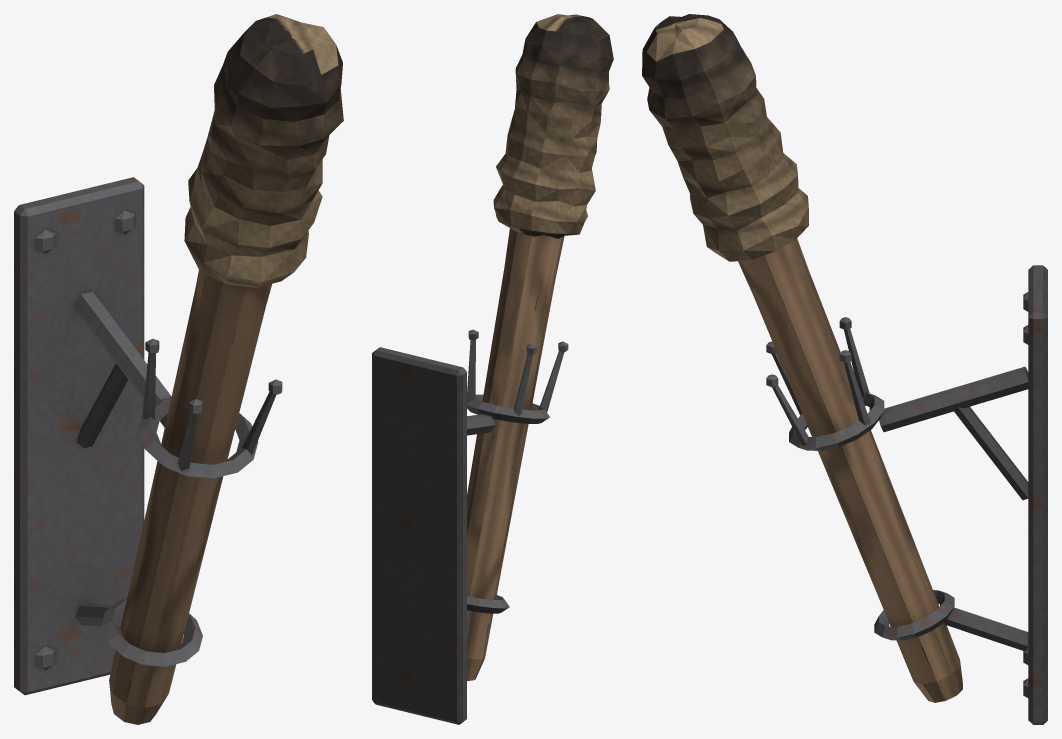
File: torch_tex.glb
The picture shows the model from 3 angles, left to right: view 1: azimuth 30°, elevation 25°; view 2: azimuth 150°, elevation 25°; view 3: azimuth 270°, elevation 25°; orthographic projection. The views are drawn at different scales.
Visible parts, largest first — view 1: torch; view 2: torch; view 3: torch.
Part boxes in pixels (bbox=[...]): torch: bbox=[14, 14, 343, 724]; torch: bbox=[372, 14, 613, 724]; torch: bbox=[642, 14, 1047, 724].
Bounding box in the file's own units: 0.075 × 0.465 × 0.2499.
Materials: 3 (3 with a texture image).
